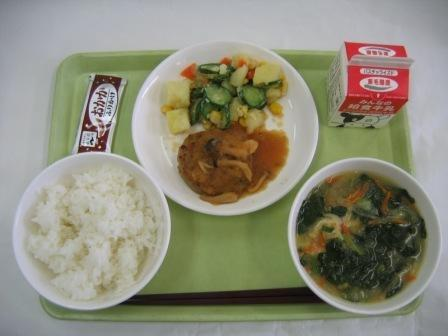Milk: (326, 37, 415, 132)
Rice: (20, 159, 169, 299)
Salad: (161, 52, 289, 131)
cooked food based on meat: (170, 131, 281, 201)
vegetable soup: (300, 158, 434, 304)
